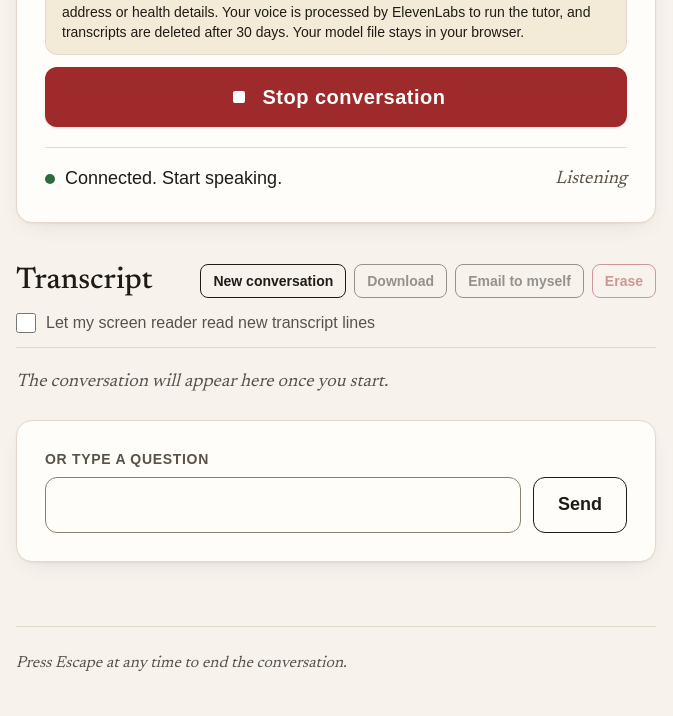
Scenario: conversation › sends a typed question and clears the box
The width and height of the screenshot is (673, 716).
(page scrolled)
Type "repeat that" into the field labelled "Or type a question" at (283, 505), box [45,477,521,532]
Then press Enter
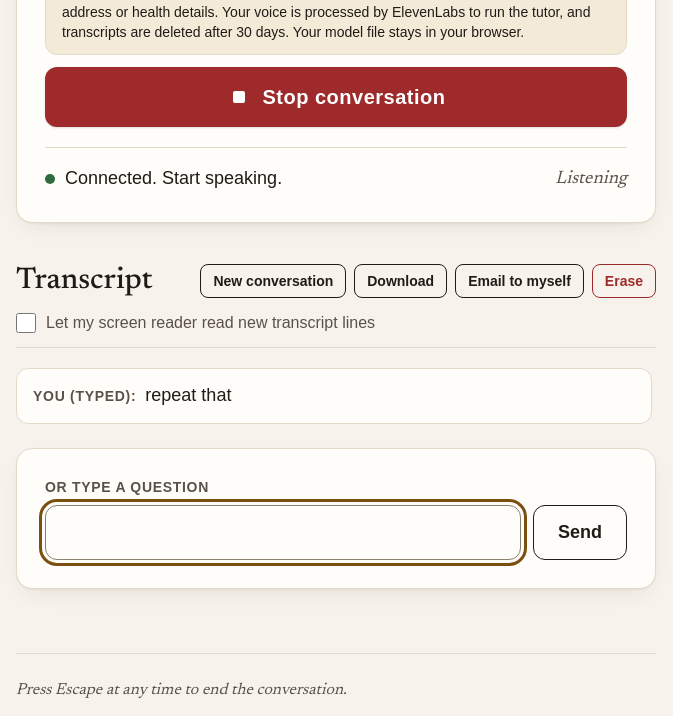
Check: the field labelled "Or type a question" is empty, box [45,504,521,560]
Check: the text "You (typed):" is shown, box [33,388,136,404]
